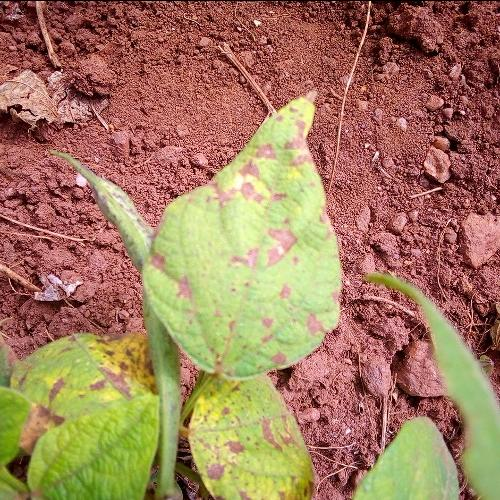hawar: (234, 138, 300, 221), (142, 244, 204, 318), (230, 230, 304, 266), (295, 304, 336, 368), (260, 282, 291, 366)
